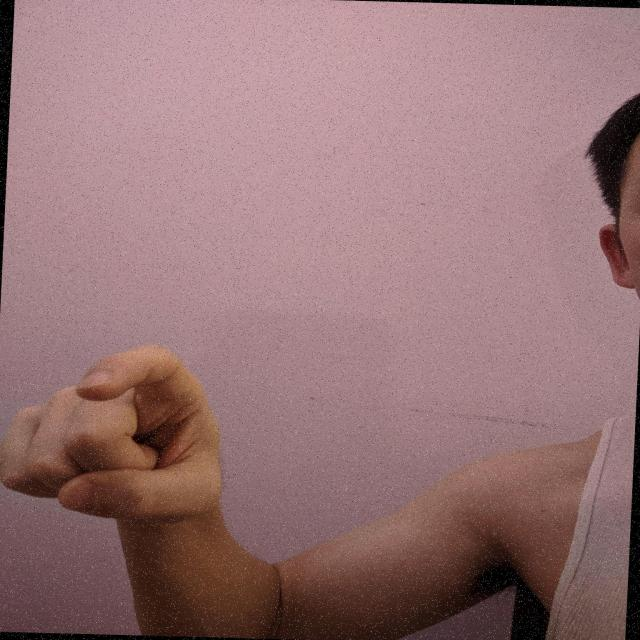Z: (0, 342, 237, 529)
